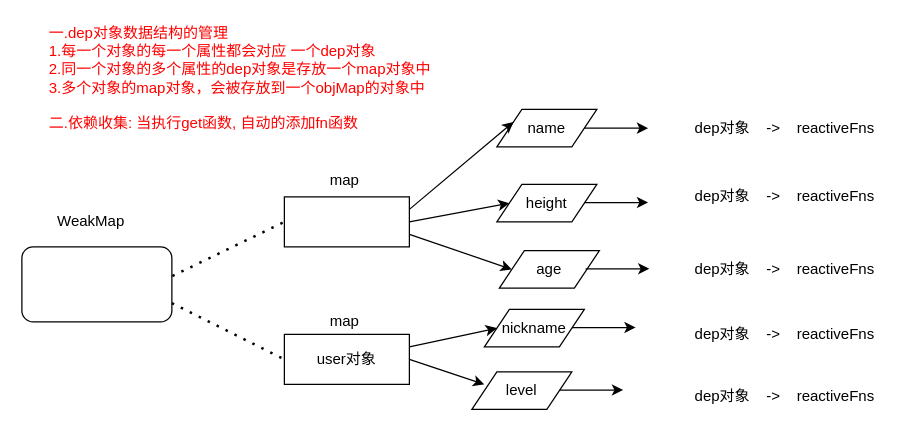
Some shapes in this 906 by 431 pixel diagram are drawn without their labels. The shapes that lost their labels are listed below. From the top down, each one's centre as x and y in pixels, then its label:
At point (346, 221): "obj对象".
At point (96, 284): "objMap: obj对象 -> map对象1 obj对象-> map对象2".
